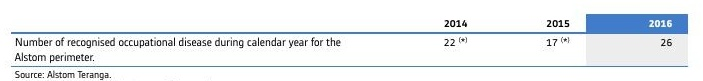table: (0, 0, 703, 81)
